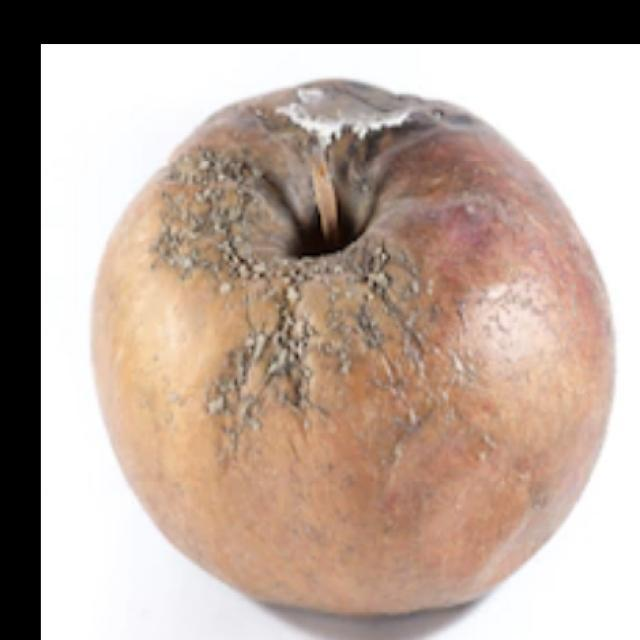Rotten: (93, 83, 570, 640)
